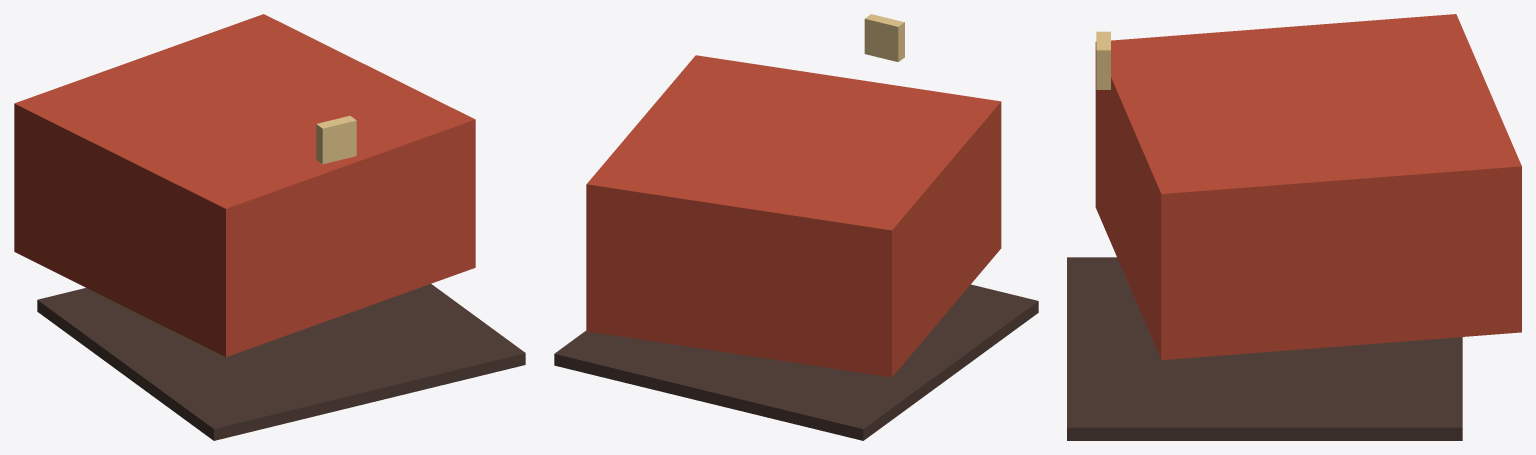
The model's file is blender_control_test.glb.
3 renders of one model, left to right at view 1: azimuth 30°, elevation 25°; view 2: azimuth 150°, elevation 25°; view 3: azimuth 270°, elevation 25°, orthographic. The views are drawn at different scales.
Parts seen in each view (by area): view 1: WW_Test_Clay_Block, WW_Test_Shadow_Base, WW_Test_Gold_Pin; view 2: WW_Test_Clay_Block, WW_Test_Shadow_Base, WW_Test_Gold_Pin; view 3: WW_Test_Clay_Block, WW_Test_Shadow_Base, WW_Test_Gold_Pin.
Part boxes in pixels (x1,y1,x2,y2): WW_Test_Clay_Block: (14,14,475,356); WW_Test_Shadow_Base: (37,284,525,440); WW_Test_Gold_Pin: (316,116,356,164); WW_Test_Clay_Block: (586,55,1001,377); WW_Test_Shadow_Base: (554,284,1038,440); WW_Test_Gold_Pin: (864,14,904,61); WW_Test_Clay_Block: (1095,14,1521,359); WW_Test_Shadow_Base: (1067,257,1462,440); WW_Test_Gold_Pin: (1096,31,1110,89).
Size of the model in its own units: 1.19 by 0.92 by 1.24.
